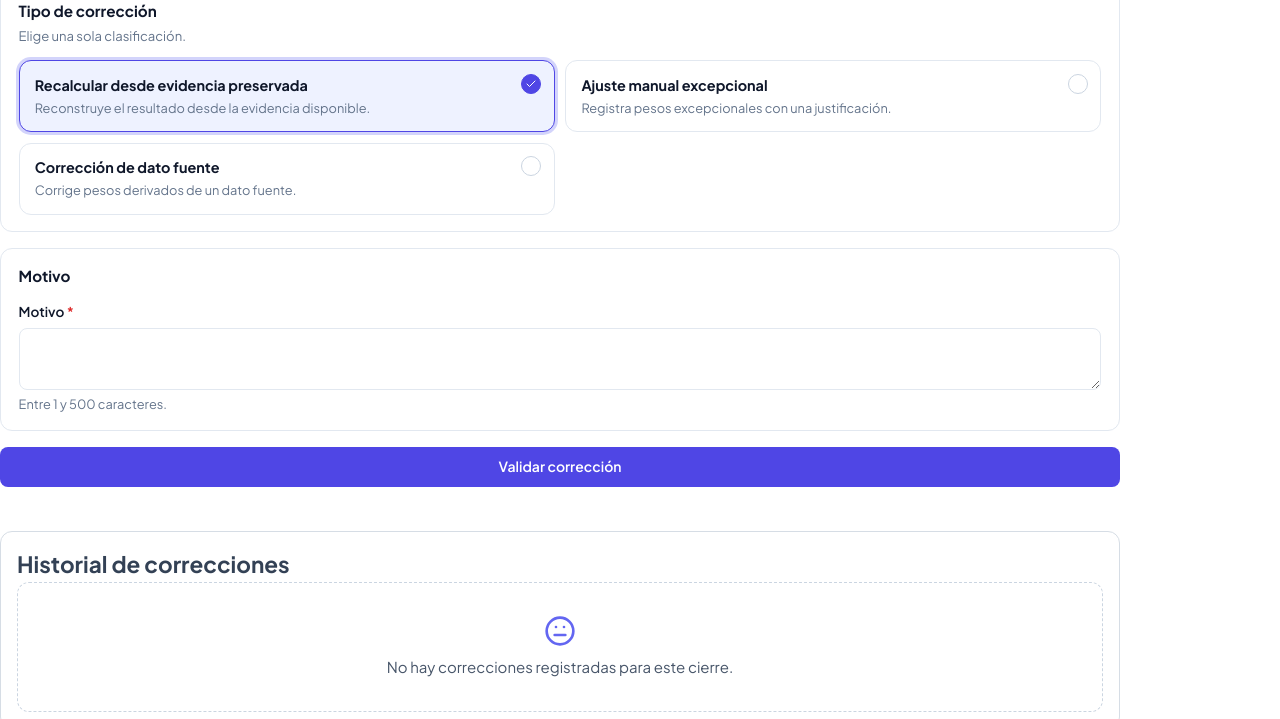
Test: MonthlyPerformanceCorrectionsPage › validates before opening explicit confirmation and cancellation never writes
Later steps or results of the test are not shown.
(page scrolled)
Type "Evidencia preservada revisada" into the text box labelled "Motivo *" at x=560, y=359, box [19,328,1101,390]
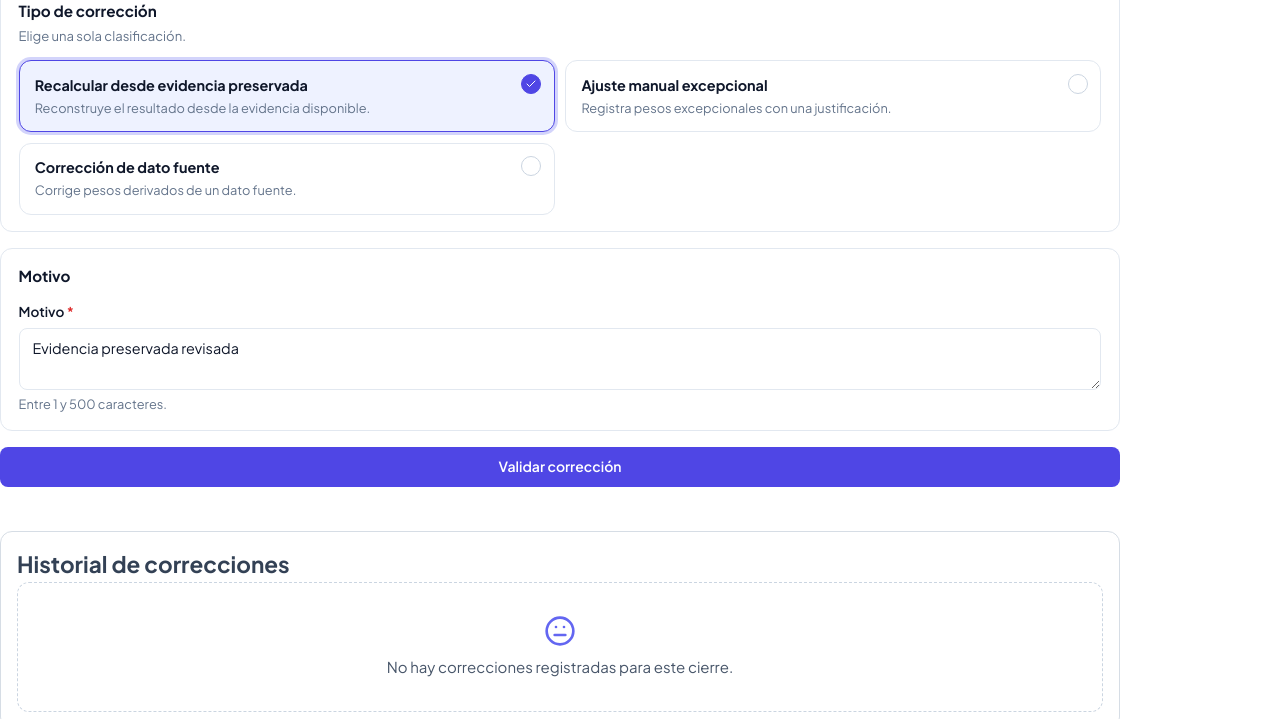
Click the button "Validar corrección" at x=560, y=467, box [0,447,1120,487]
(page scrolled)
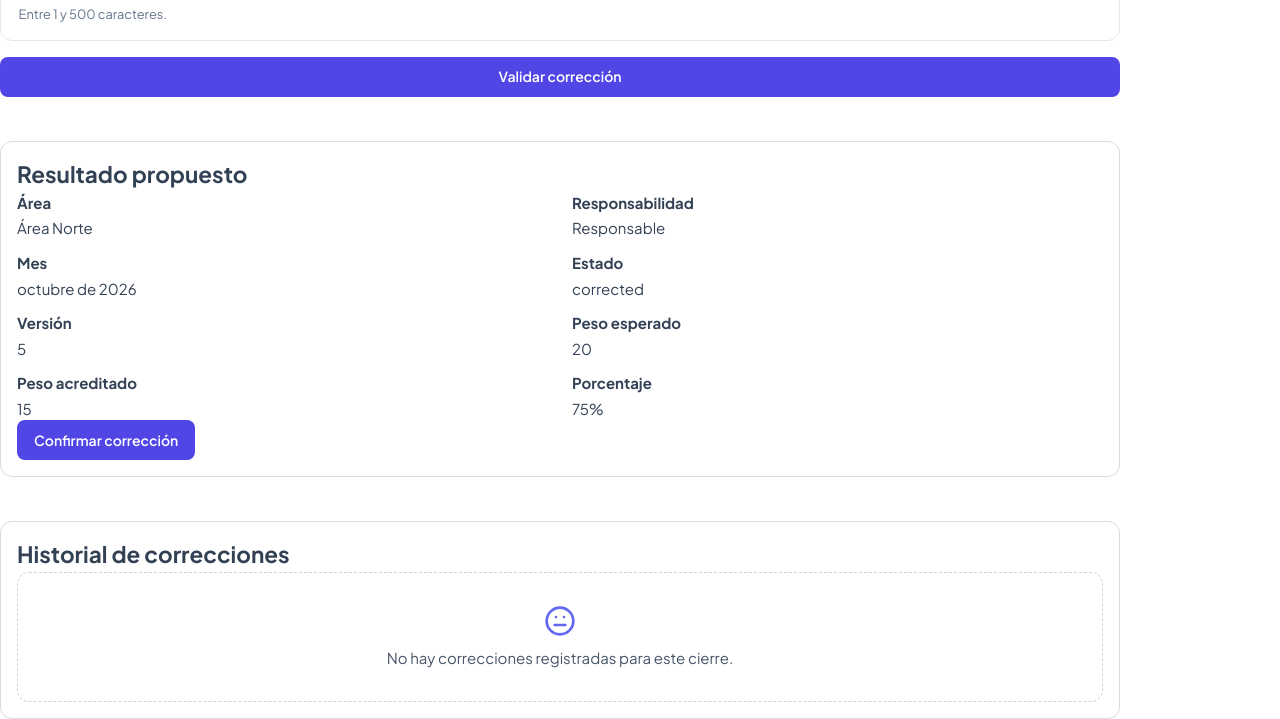
Check: the heading "Resultado propuesto" is shown, box [17,160,248,188]
Click the button "Confirmar corrección" at x=106, y=440, box [17,420,195,460]
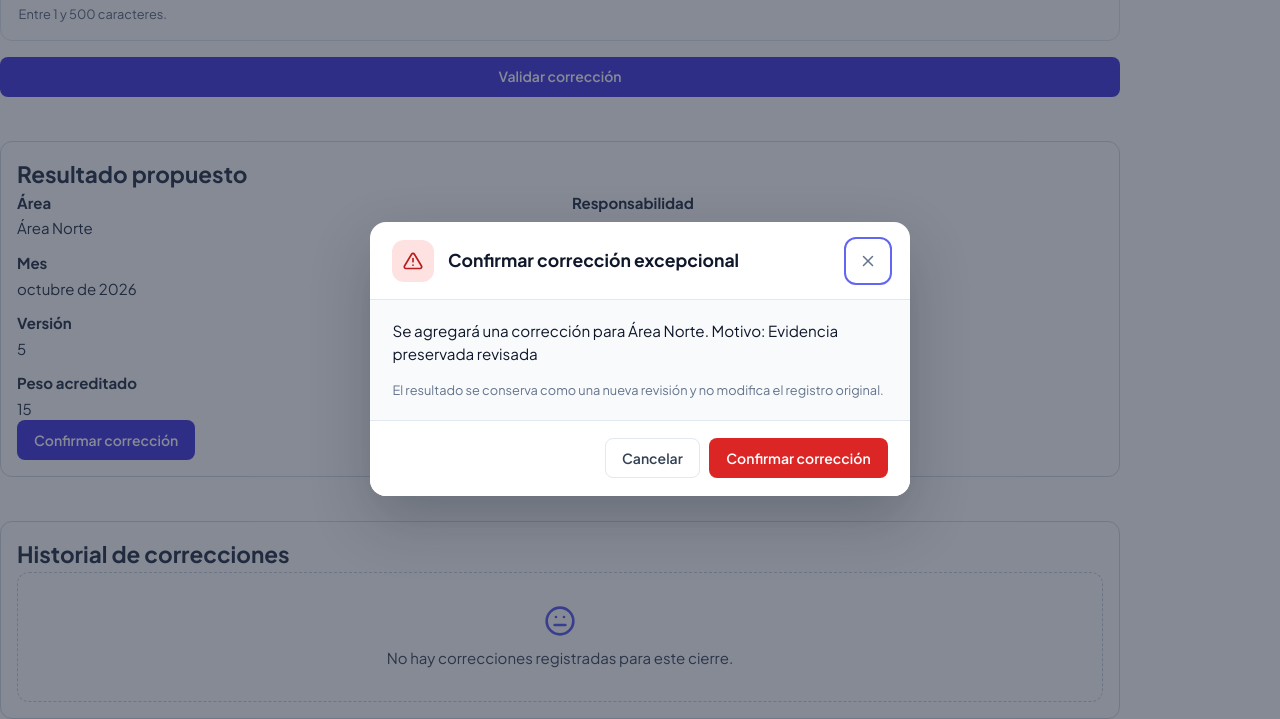
Check: the dialog is shown, box [370,222,910,496]
